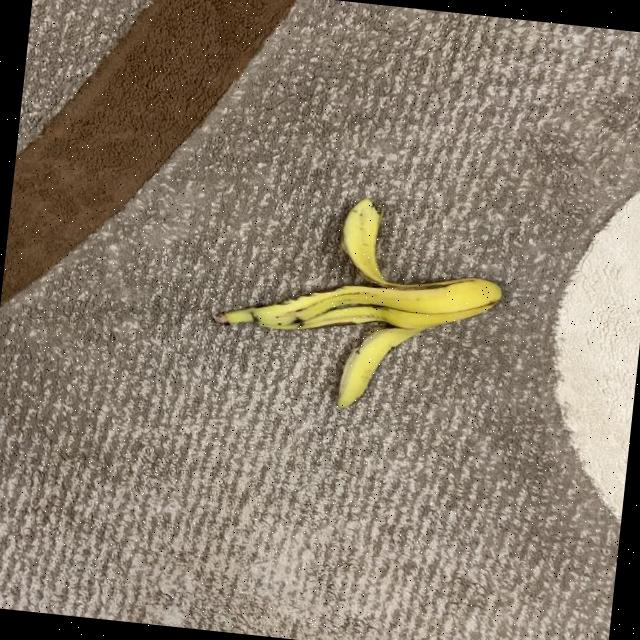banana-peel: (202, 181, 510, 423), (210, 248, 502, 354)
